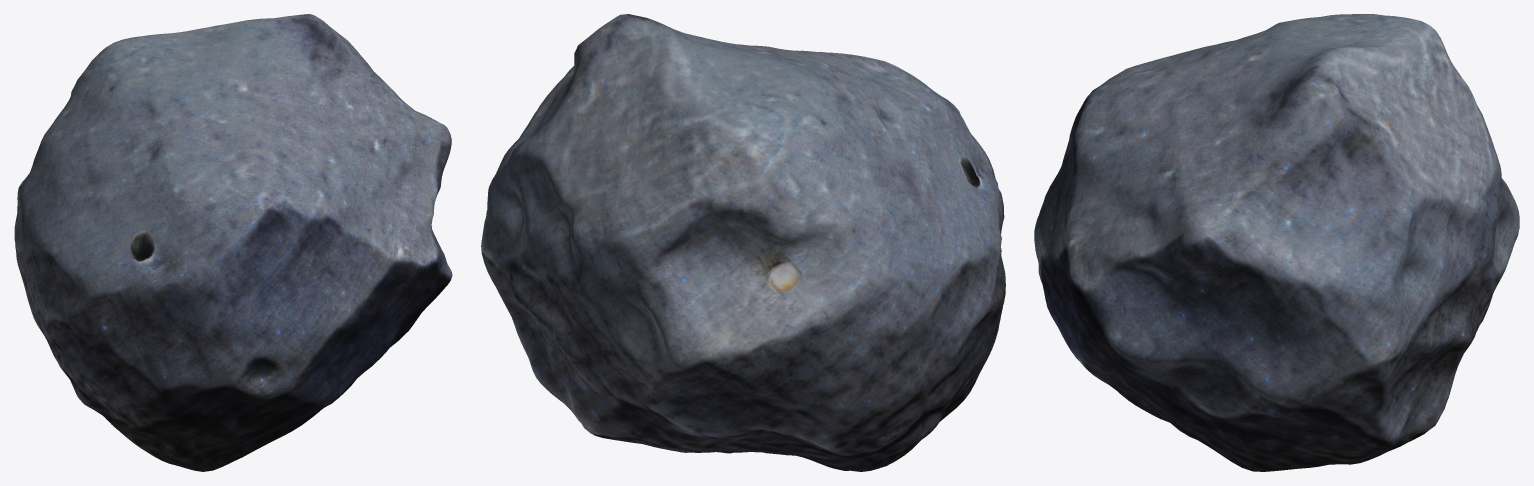
Rendered from 1aaa11d5c462_asteroid_min.fbx.
The picture shows the model from 3 angles, left to right: view 1: azimuth 30°, elevation 25°; view 2: azimuth 150°, elevation 25°; view 3: azimuth 270°, elevation 25°; orthographic projection. The views are drawn at different scales.
Parts seen in each view (by area): view 1: mesh; view 2: mesh; view 3: mesh.
Boxes of the visible parts, x1,y1,x2,y2 form: mesh: (14, 14, 452, 471); mesh: (481, 14, 1005, 471); mesh: (1034, 14, 1519, 471).
Size of the model in its own units: 99.86 by 97.37 by 97.31.
